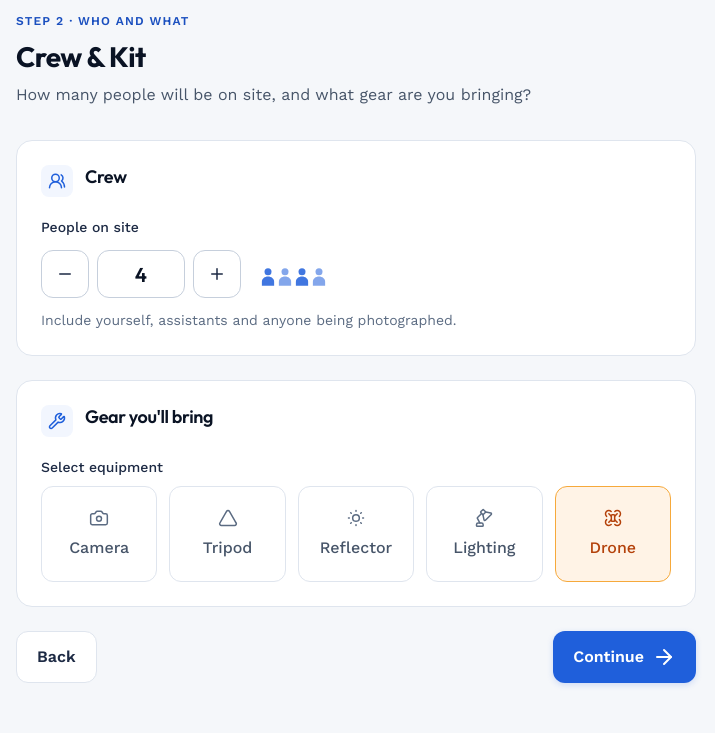
Test case: CrewEquipmentScreen › focuses the first gear tile when equipment is first invalid
This screenshot has width=715, height=733.
What coordinates should you click on to do the following:
click the button "Continue"
I would click on:
 (625, 658)
Its box is [553,632,696,684].
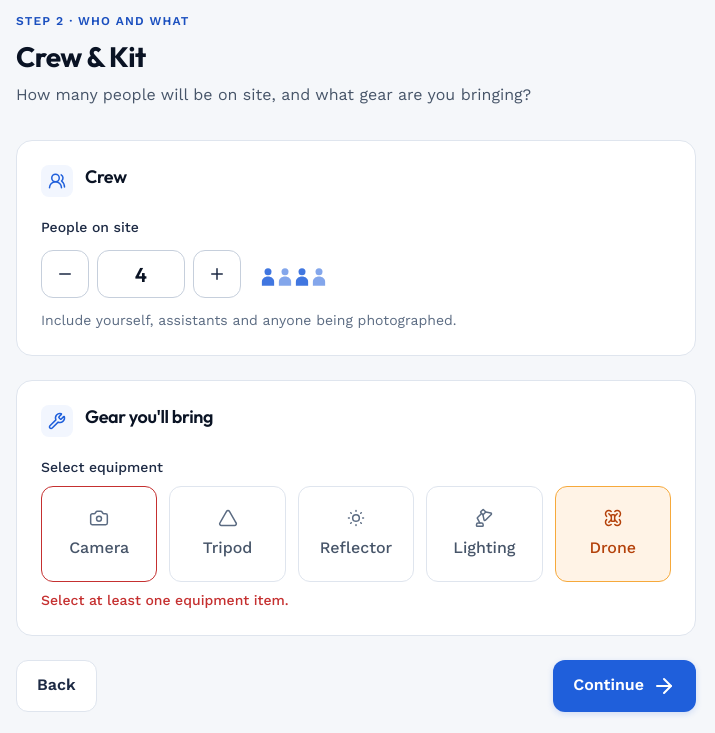
Expected: the message reads "Select at least one equipment item.", [41,592,289,608]
